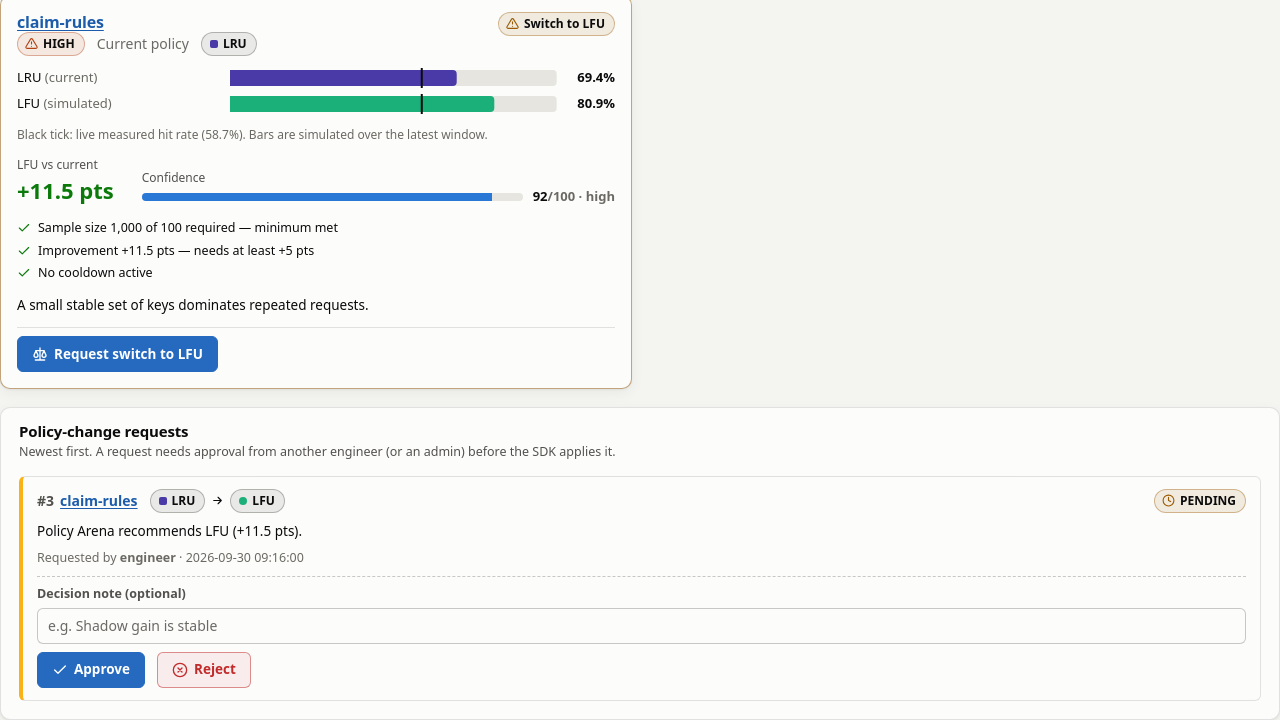
Policy Arena: approvals › shows the backend error as a toast when approval is refused
(page scrolled)
Click the button "Approve": (91, 670) x1=37 y1=652 x2=145 y2=688
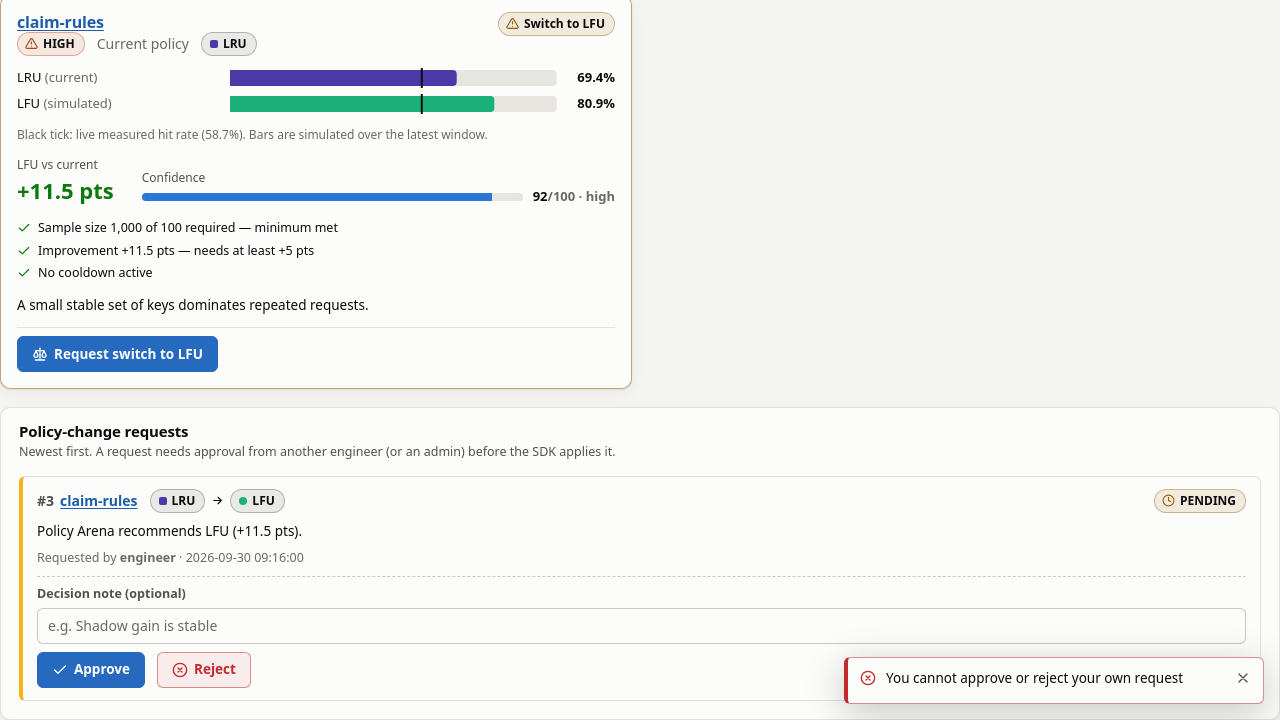
Check: the message reads "You cannot approve or reject your own request", box x1=886 y1=669 x2=1183 y2=687
